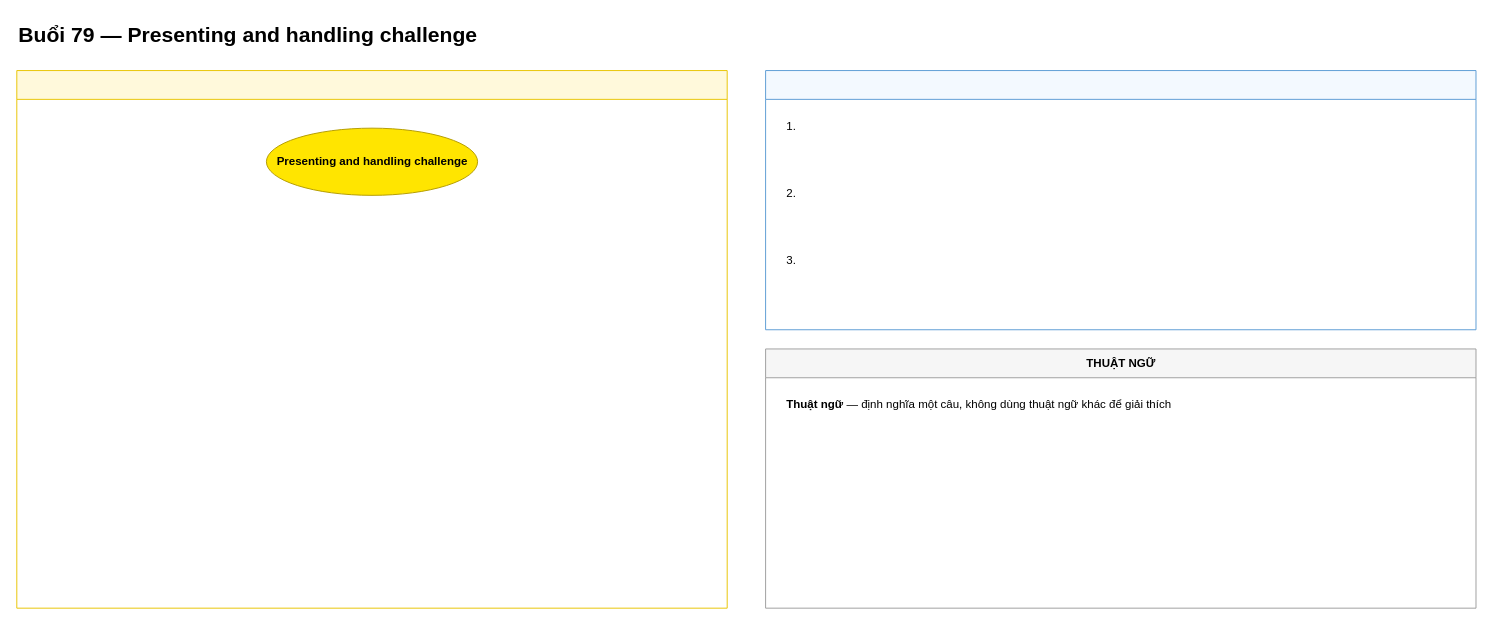
This 1493x625 diagram has some shape labels left out. Here are the shapes that lost their labels. From the top down, the box of each, then its label:
(765, 70, 1476, 330): KEY TAKEAWAY — ba điều phải nhớ
(16, 70, 727, 608): MINDMAP
